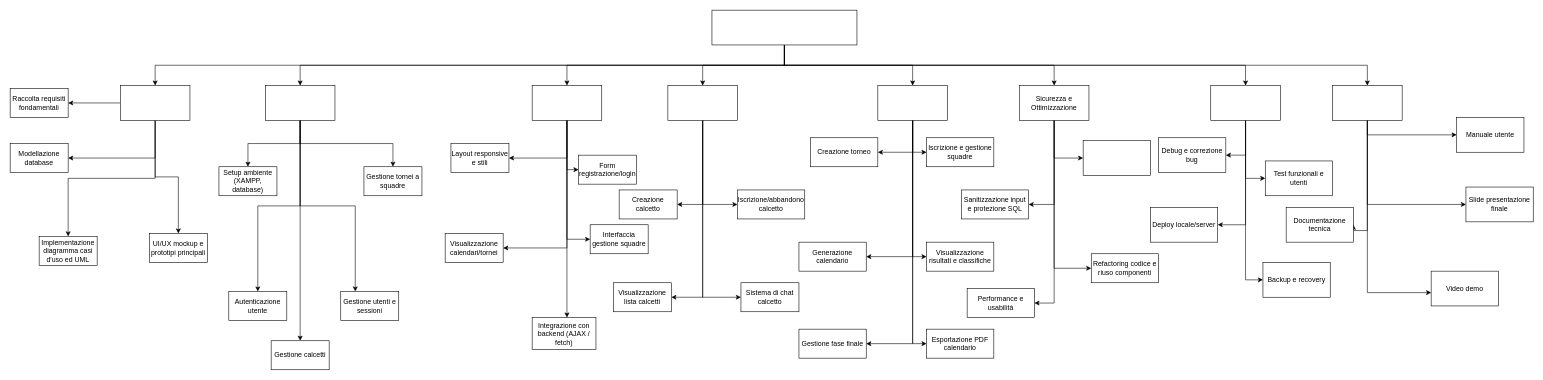
Image size: 1543x380. Some labels were removed from this diagram. The shapes that lost their labels are listed below. From the top down, each one's box as (x1, y1, x2, y2) in pixels, then its label:
(711, 10, 857, 45): Sportify - Piattaforma Web per Gestione Calcetti e Tornei
(120, 85, 190, 120): Analisi e Progettazione
(265, 85, 335, 120): Backend Development
(532, 85, 602, 120): Frontend Development
(667, 85, 737, 120): Funzionalità Calcetti
(877, 85, 947, 120): Funzionalità Tornei
(1210, 85, 1280, 120): Testing e Deployment
(1332, 85, 1402, 120): Documentazione e Presentazione
(1083, 140, 1150, 175): Controllo accessi e ruoli
